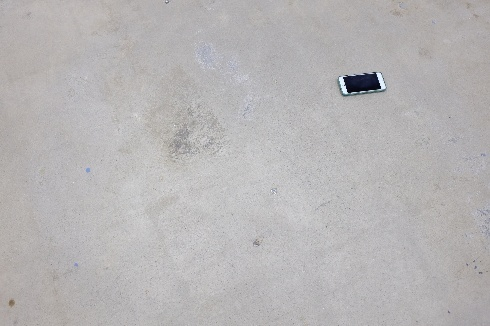phone: (338, 67, 387, 99)
